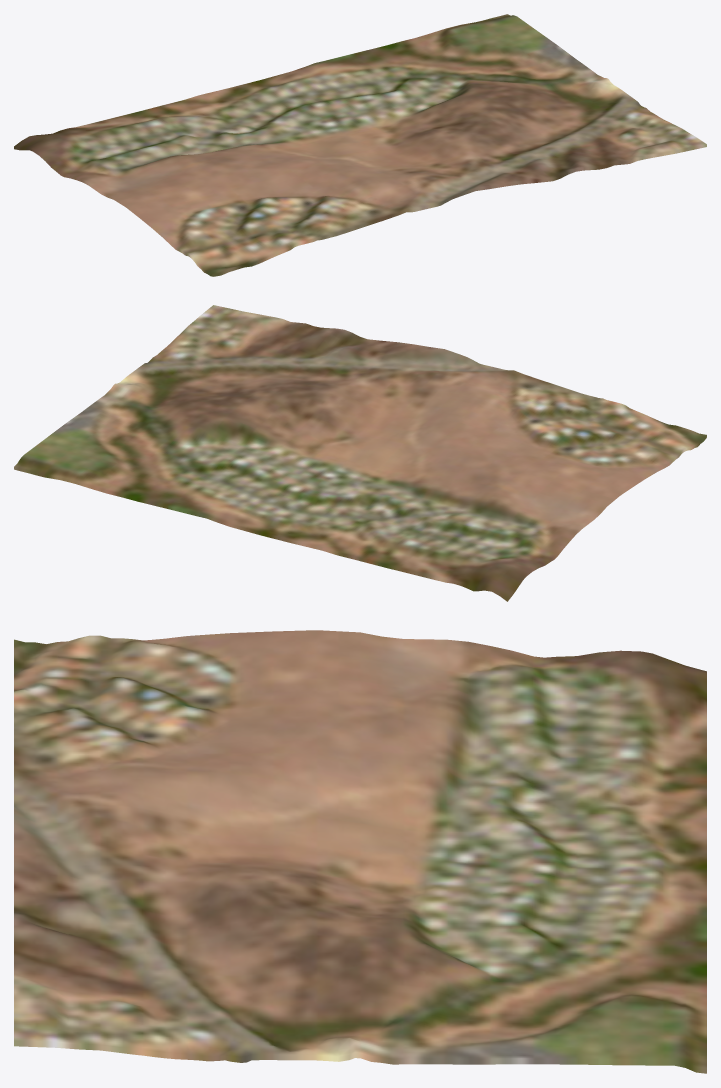
Rendered from terrain_r6_c4_lod1.glb.
The picture shows the model from 3 angles, top to bottom: view 1: azimuth 30°, elevation 25°; view 2: azimuth 150°, elevation 25°; view 3: azimuth 270°, elevation 25°; orthographic projection. The views are drawn at different scales.
Parts seen in each view (by area): view 1: terrain_r6_c4_lod1; view 2: terrain_r6_c4_lod1; view 3: terrain_r6_c4_lod1.
Boxes of the visible parts, x1,y1,x2,y2 form: terrain_r6_c4_lod1: (14, 14, 706, 276); terrain_r6_c4_lod1: (14, 305, 706, 601); terrain_r6_c4_lod1: (14, 630, 706, 1073).
Bounding box in the file's own units: 1125 × 93.32 × 787.
Materials: 1 (1 with a texture image).
